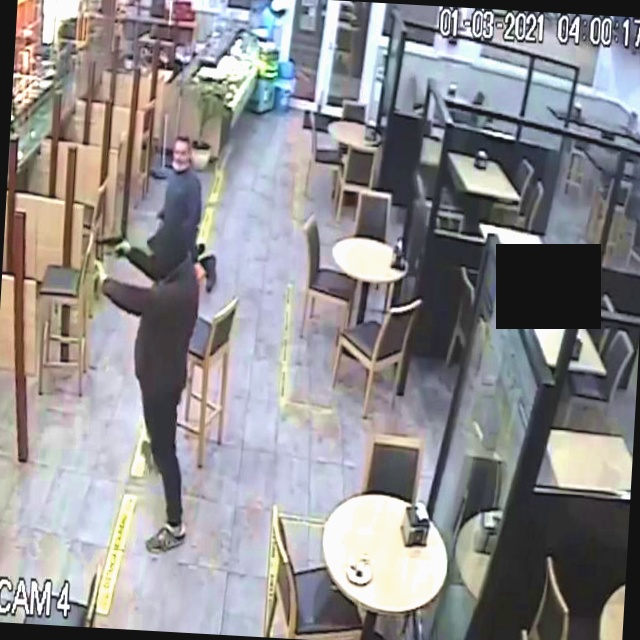gun: (83, 217, 141, 268)
